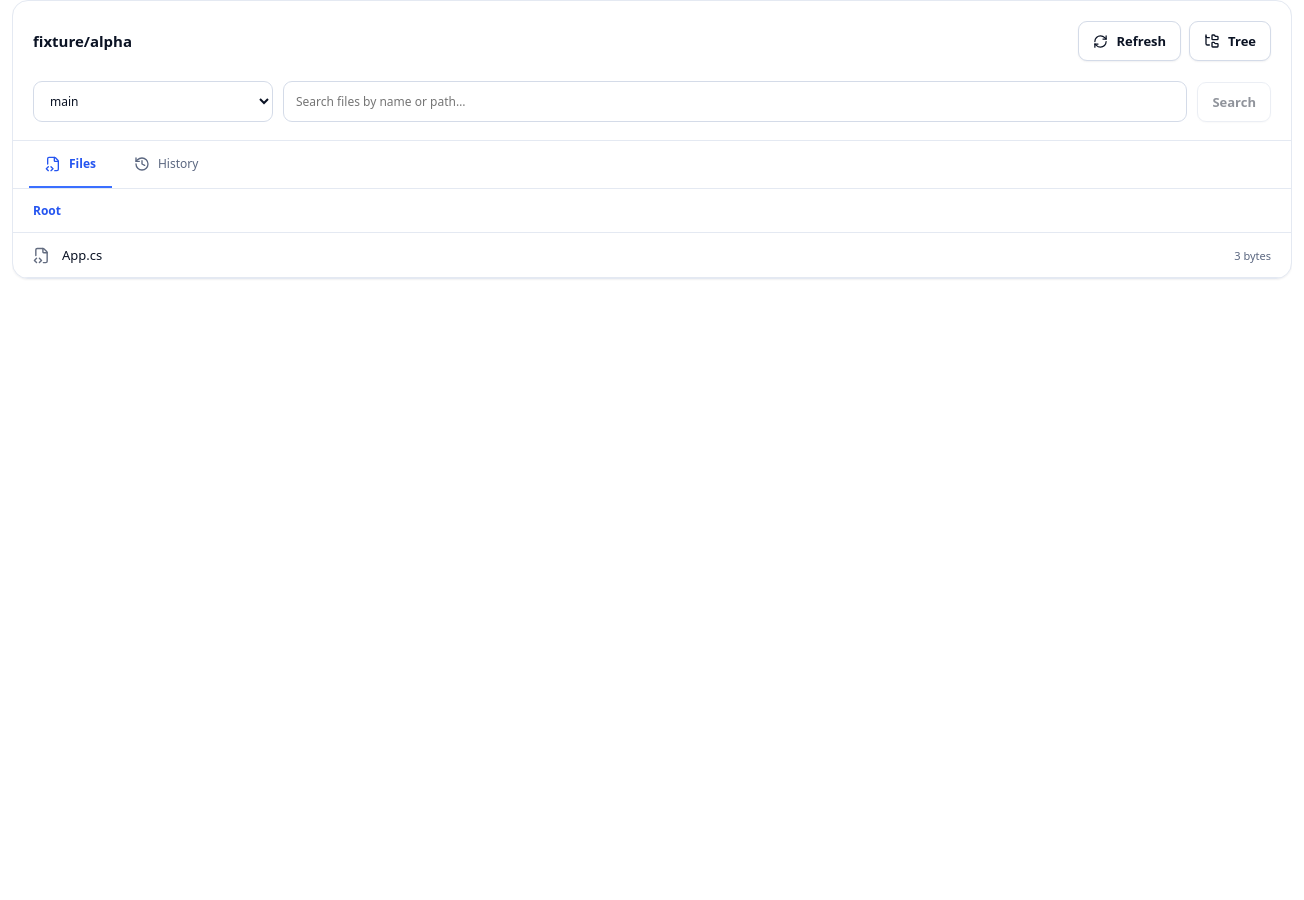
Test: filtered history continues through the server cursor and hides author and moved-file details
Expected: the text "fixture/alpha" is shown, [33,31,132,51]
What coordinates should you click on to do the following:
click the button "History"
I would click on:
 (166, 164)
Its box is [118,141,214,188].
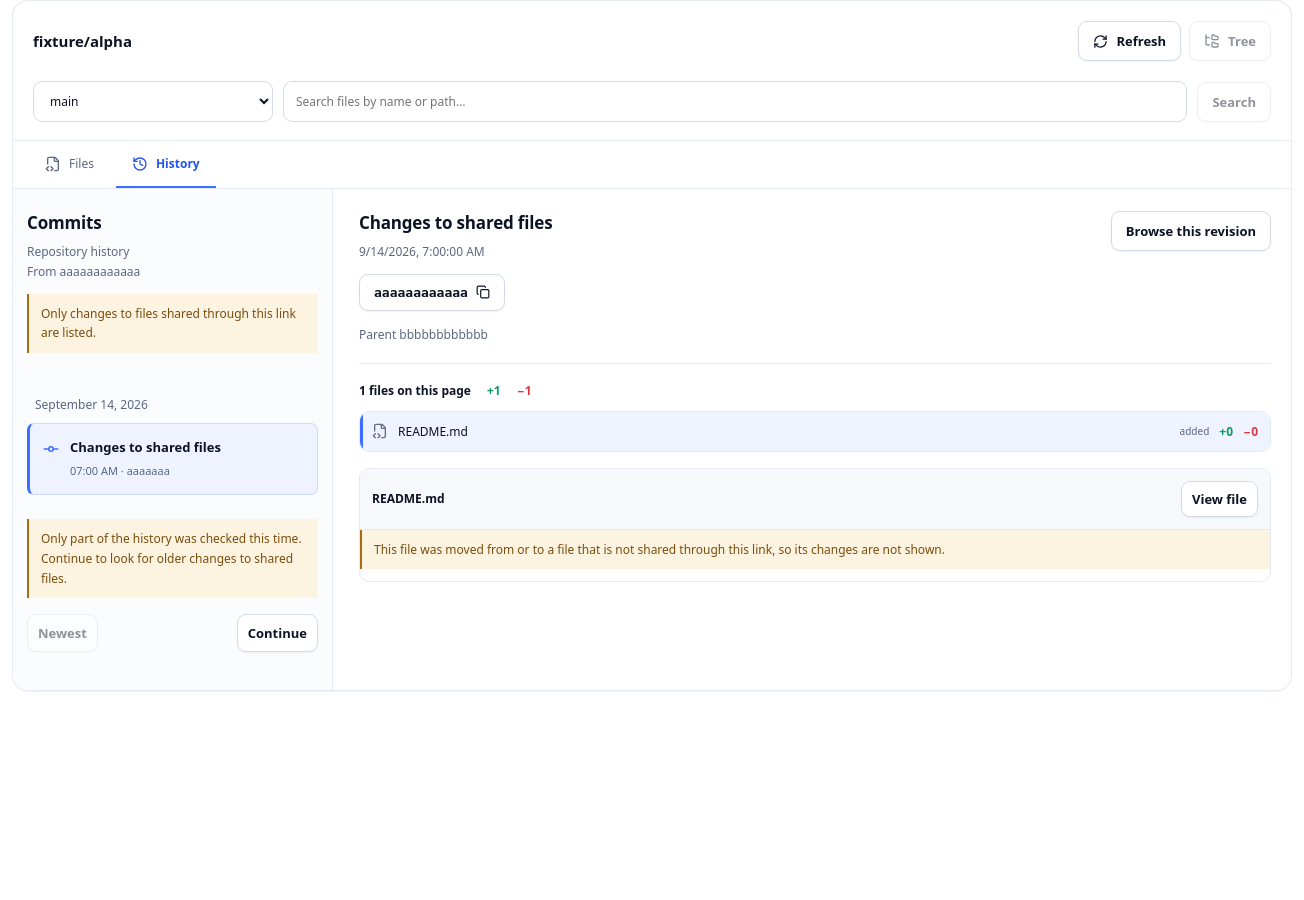
Expected: the heading "Changes to shared files" is shown, [359,211,552,234]
Expected: the text "Only changes to files shared through this link are listed." is shown, [27,294,318,353]
Expected: the text "Only part of the history was checked" is shown, [41,530,302,587]
What coordinates should you click on to do the following:
click the button "Continue"
I would click on:
 (277, 633)
Its box is [237,614,318,652].
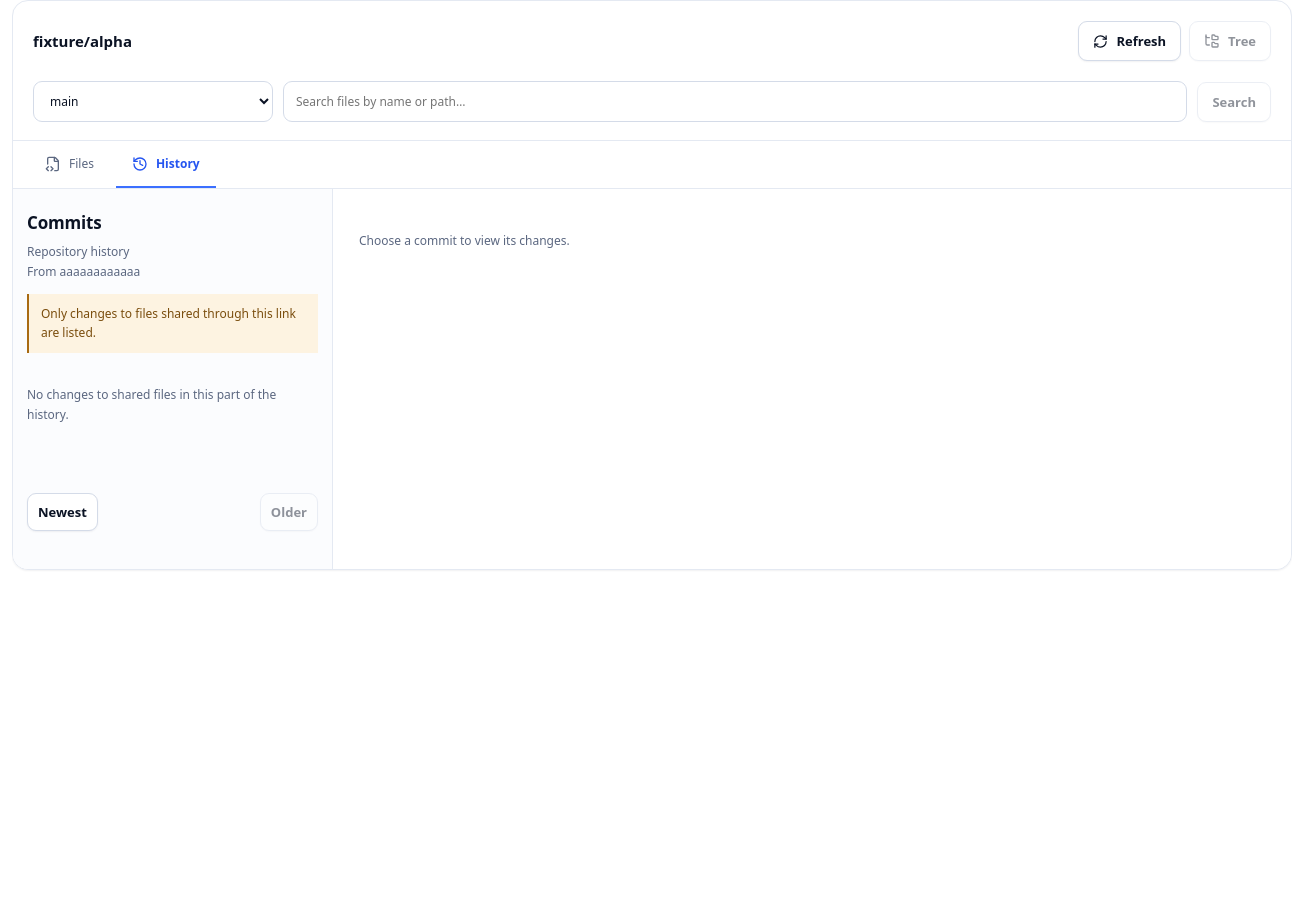
Expected: the button "Older" is disabled, [260,493,318,531]
Expected: the text "No changes to shared files in this part of the history." is shown, [27,386,276,423]
What coordinates should you click on to do the following:
click the button "Newest"
I would click on:
 (62, 512)
Its box is [27,493,98,531].
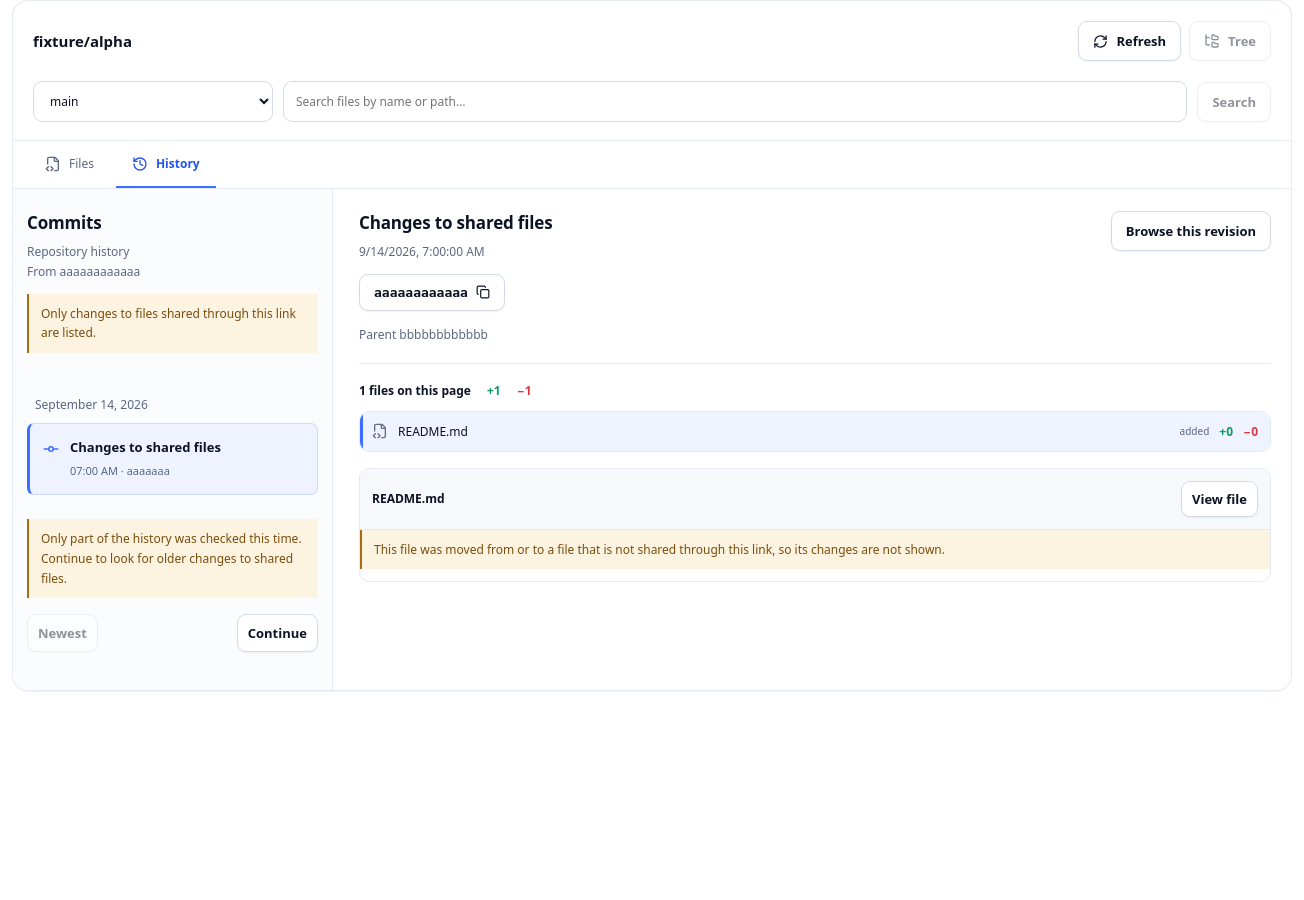
Expected: the heading "Changes to shared files" is shown, [359,211,552,234]
